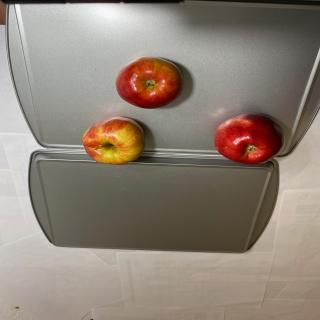Apple: (214, 112, 285, 164), (115, 56, 183, 109), (82, 116, 145, 165)
